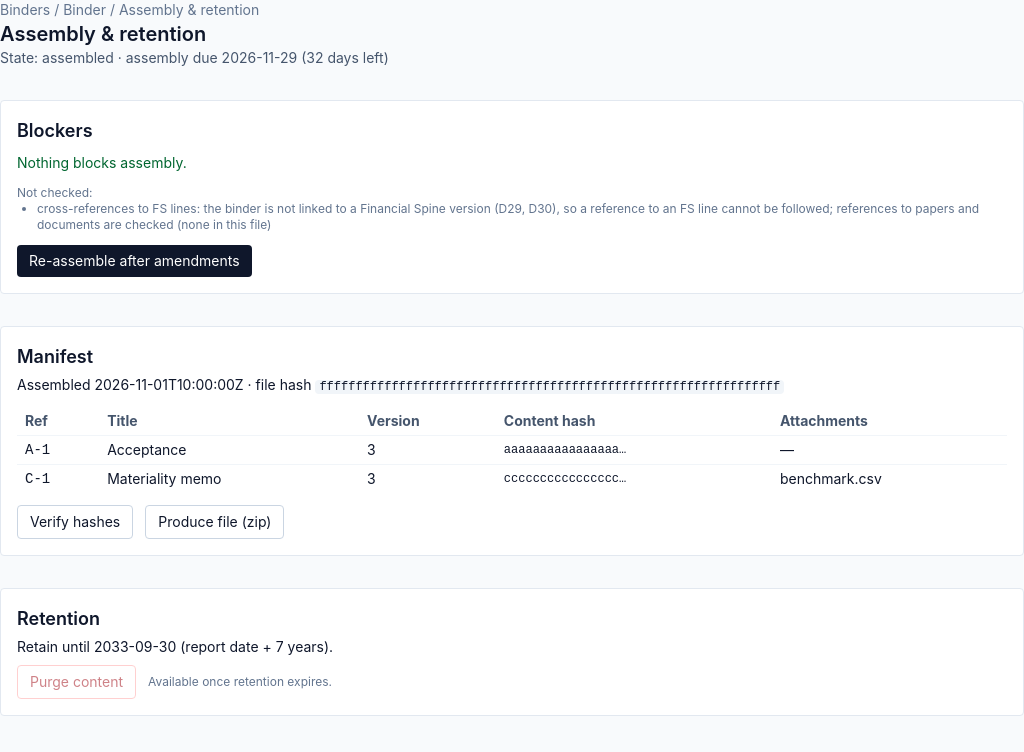
Test: a verification failure lists the mismatches
expect the heading "Assembly & retention" is shown: met, box [0,22,206,46]
Click the button "Verify hashes": (75, 522) [17,505,133,539]
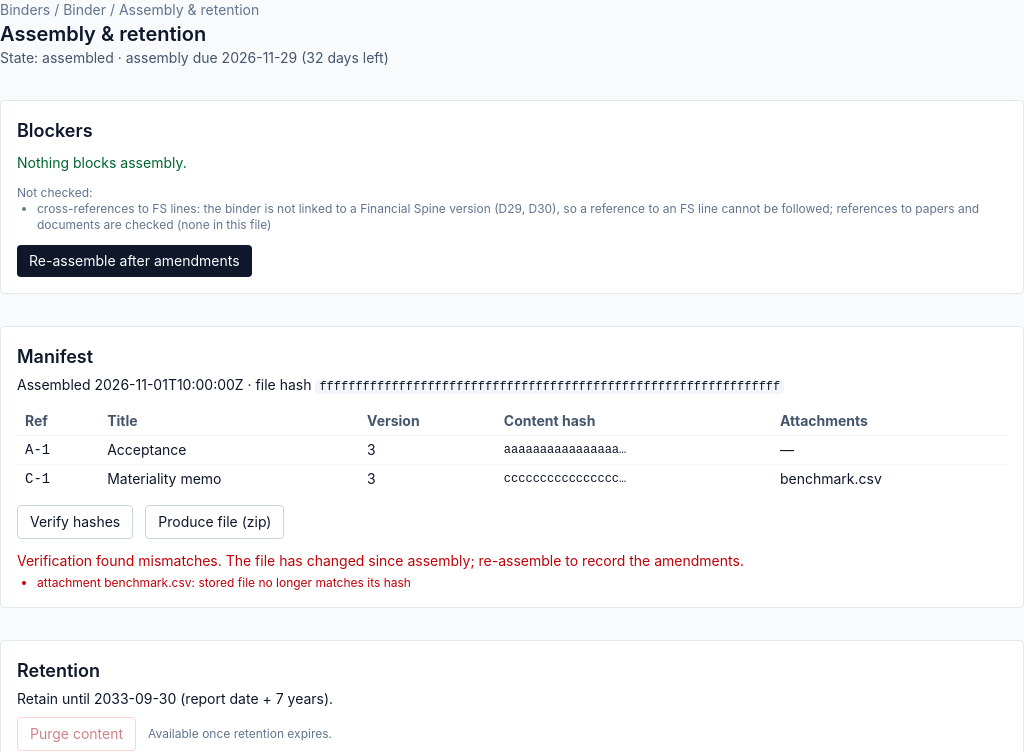
expect the element with test id "verification" shows "Verification found mismatches.": met, box [17,552,222,569]
expect the element with test id "verification" shows "attachment benchmark.csv: stored file no longer matches its hash": met, box [17,552,744,590]
expect the element with test id "verification" shows "re-assemble": met, box [222,552,744,569]
